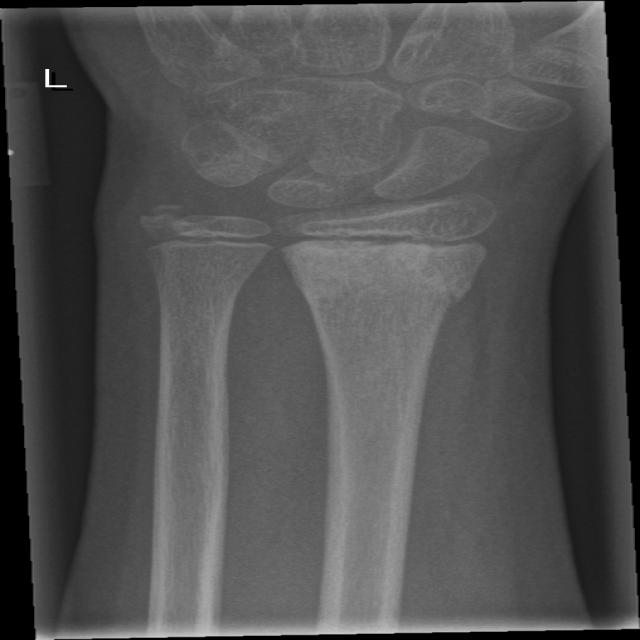radius fracture: (401, 245, 504, 358)
